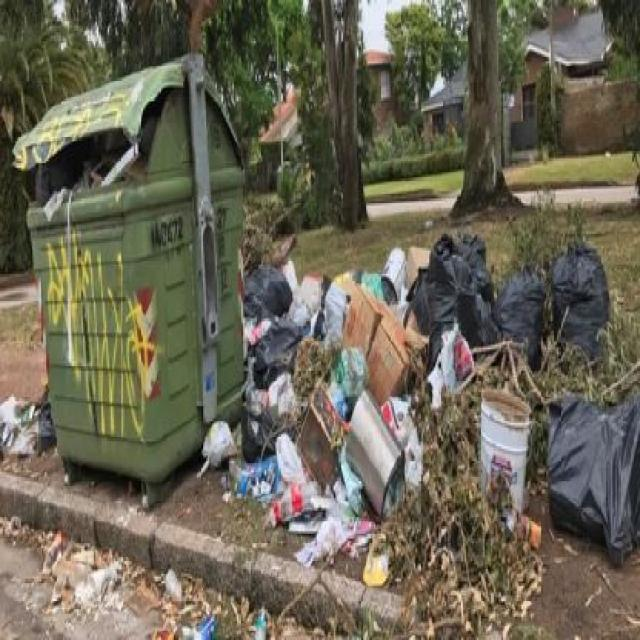garbage: (242, 274, 400, 508), (389, 252, 606, 356), (548, 393, 640, 563), (476, 375, 537, 508), (165, 568, 276, 639), (26, 146, 150, 188), (0, 392, 52, 472), (194, 409, 241, 480)
